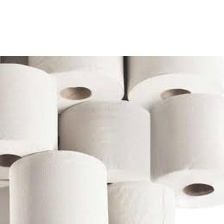tissue: (145, 91, 224, 213), (55, 97, 155, 189), (5, 147, 110, 224), (0, 59, 60, 192), (23, 56, 126, 113), (123, 56, 224, 113), (109, 177, 180, 224)
